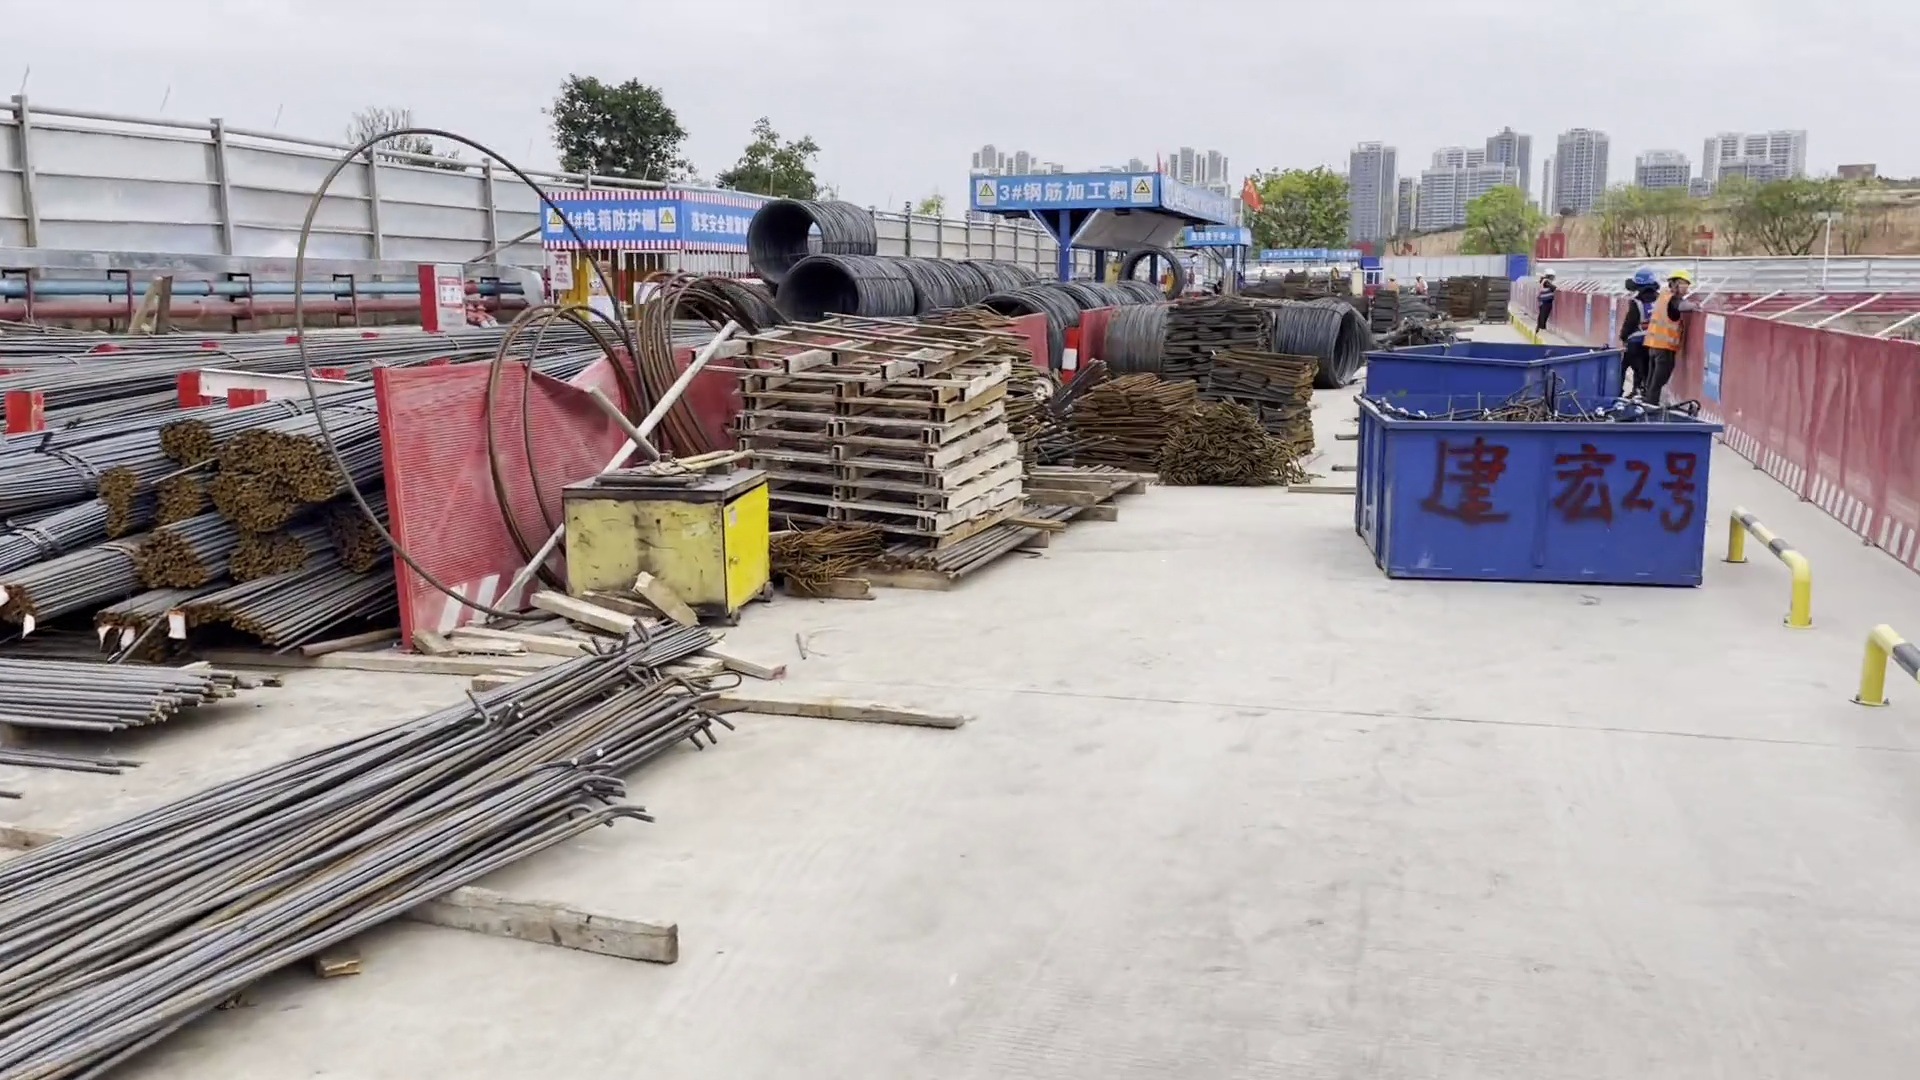fence: (1541, 285, 1920, 574)
helmet: (1667, 268, 1696, 286), (1627, 270, 1655, 287), (1540, 269, 1558, 281), (1414, 273, 1422, 278), (1388, 275, 1396, 280)
hopper: (1348, 390, 1717, 594), (1355, 337, 1634, 411)
person: (1640, 269, 1699, 400), (1618, 269, 1663, 377), (1527, 265, 1558, 340), (1383, 273, 1399, 295), (1412, 273, 1427, 297)
rebar: (12, 357, 388, 519), (222, 380, 419, 534), (202, 528, 412, 671), (1, 506, 243, 616), (1, 645, 241, 754), (136, 397, 251, 475)
vest: (1646, 296, 1679, 351), (1632, 292, 1652, 337), (1538, 284, 1554, 307), (1413, 280, 1426, 293), (1387, 280, 1395, 291)
